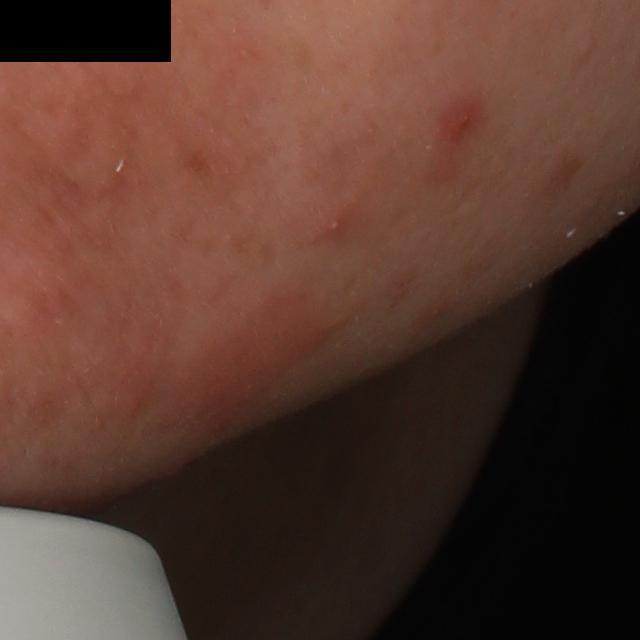papule: (319, 208, 350, 240)
